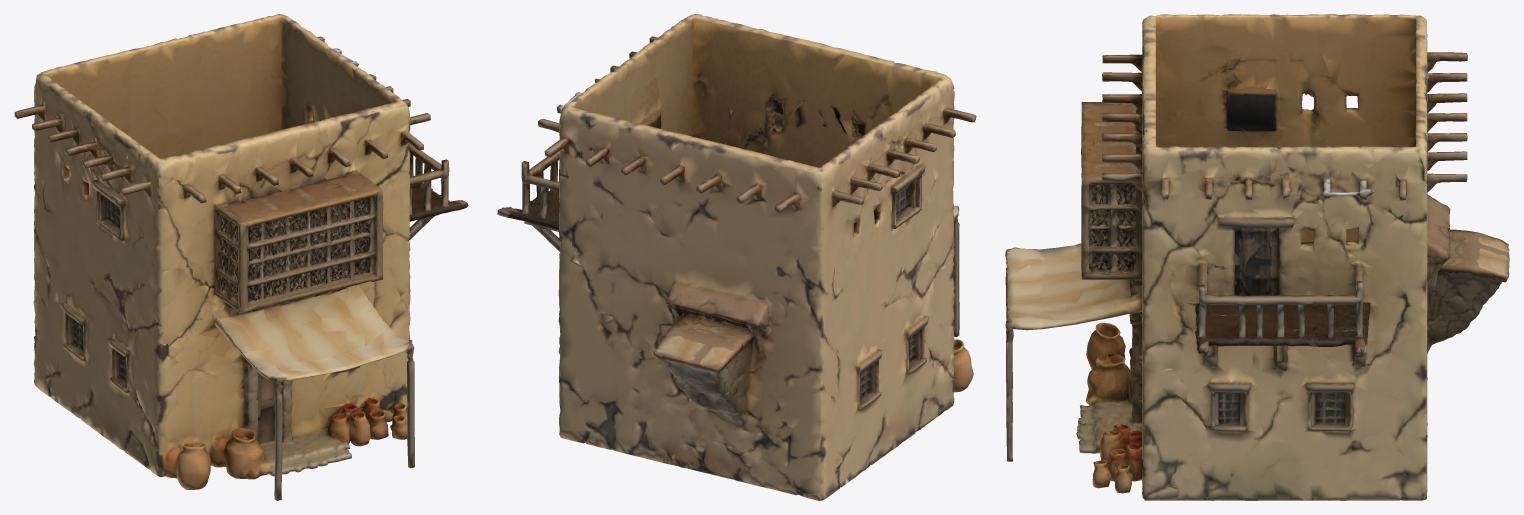
File: Desert_Dwelling.glb
3 views of the same model, side by side, from view 1: azimuth 30°, elevation 25°; view 2: azimuth 150°, elevation 25°; view 3: azimuth 270°, elevation 25° (orthographic). The views are drawn at different scales.
Parts seen in each view (by area): view 1: Desert_Dwelling; view 2: Desert_Dwelling; view 3: Desert_Dwelling.
Boxes of the visible parts, x1,y1,x2,y2 form: Desert_Dwelling: (14,14,468,500); Desert_Dwelling: (497,14,976,500); Desert_Dwelling: (1005,14,1509,500).
Bounding box in the file's own units: 1.69 × 1.38 × 1.8.
Materials: 1 (1 with a texture image).
